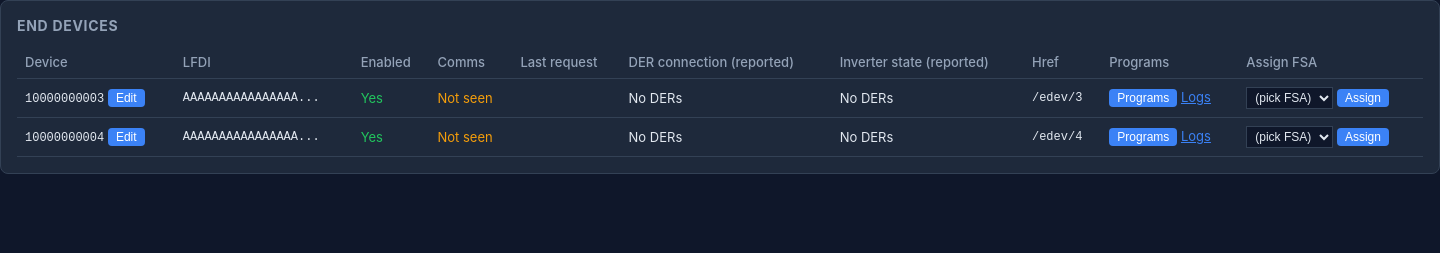
Scenario: DeviceTable Programs drawer › opens the drawer of the device whose button is pressed, and closes it on a second press
This screenshot has width=1440, height=253.
Click the button with test id "device-programs-toggle-3" at [1143, 98], box x1=1109 y1=89 x2=1177 y2=107
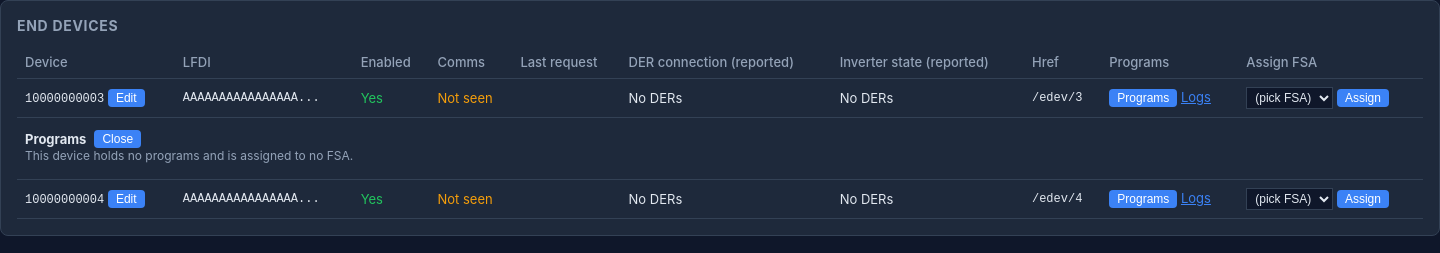
Result: the element with test id "device-programs-3" is shown at x1=25 y1=130 x2=353 y2=163
Click the button with test id "device-programs-toggle-3" at [1143, 98], box x1=1109 y1=89 x2=1177 y2=107
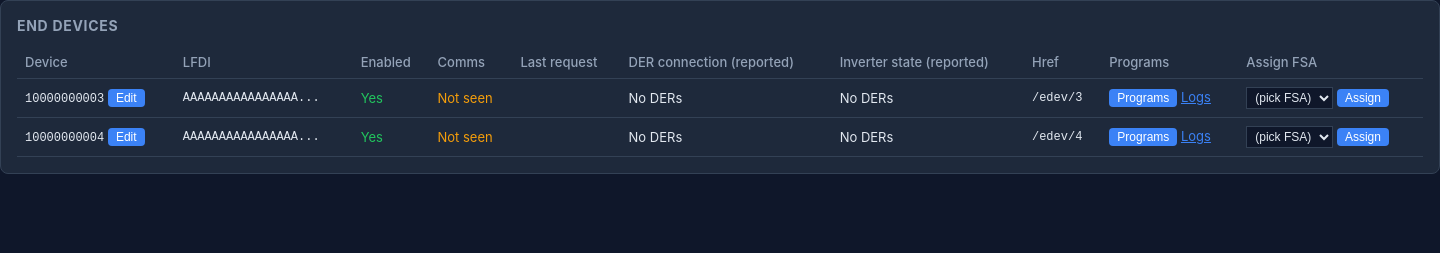
Result: the element with test id "device-programs-3" is gone
